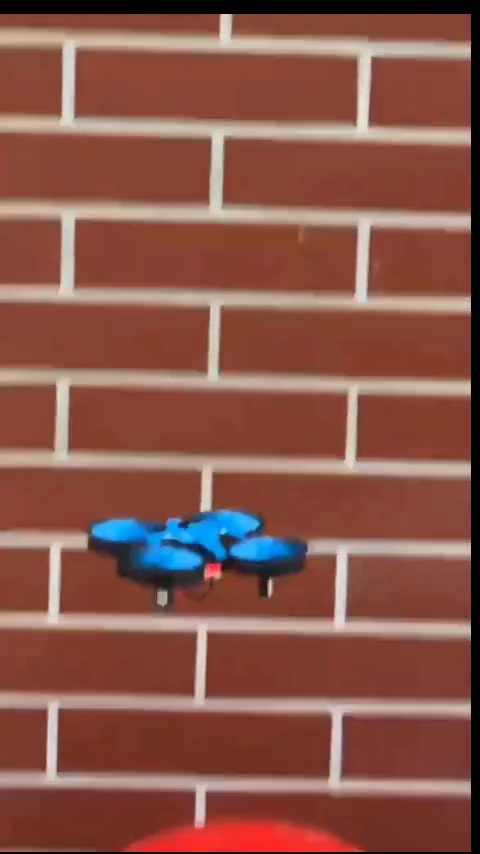drone: (90, 507, 310, 609)
